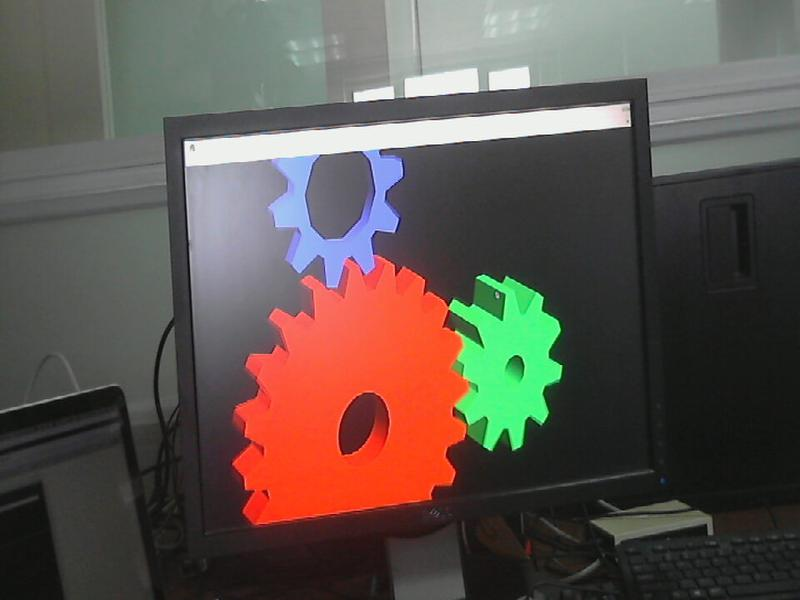glxgears_pass: (207, 149, 584, 528)
